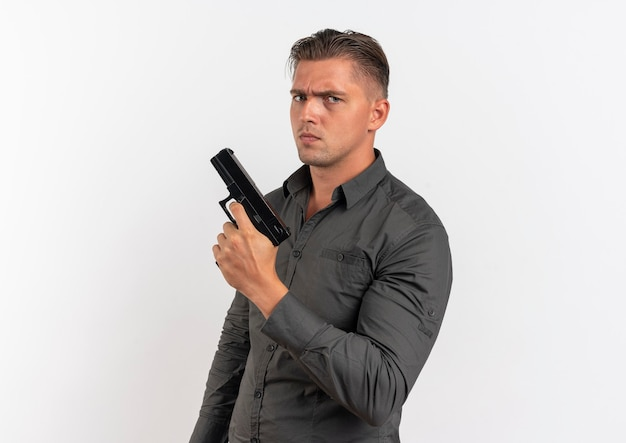gun: (209, 144, 293, 267)
